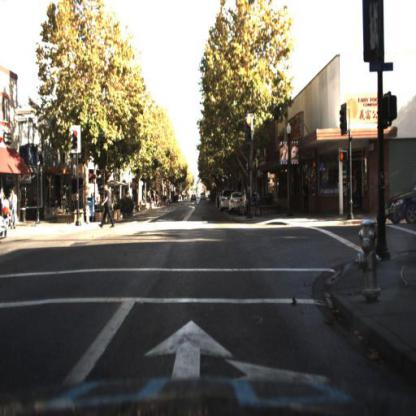car: (377, 177, 416, 234), (386, 173, 416, 233), (228, 193, 243, 219), (229, 192, 245, 212), (3, 201, 10, 246), (221, 190, 229, 213), (190, 190, 199, 205), (200, 191, 209, 205)
pedestrian: (95, 177, 114, 231), (302, 175, 311, 217), (303, 178, 312, 212), (157, 191, 162, 215)
trafficLight-Red: (71, 126, 82, 157), (71, 129, 81, 157), (245, 114, 253, 146)
